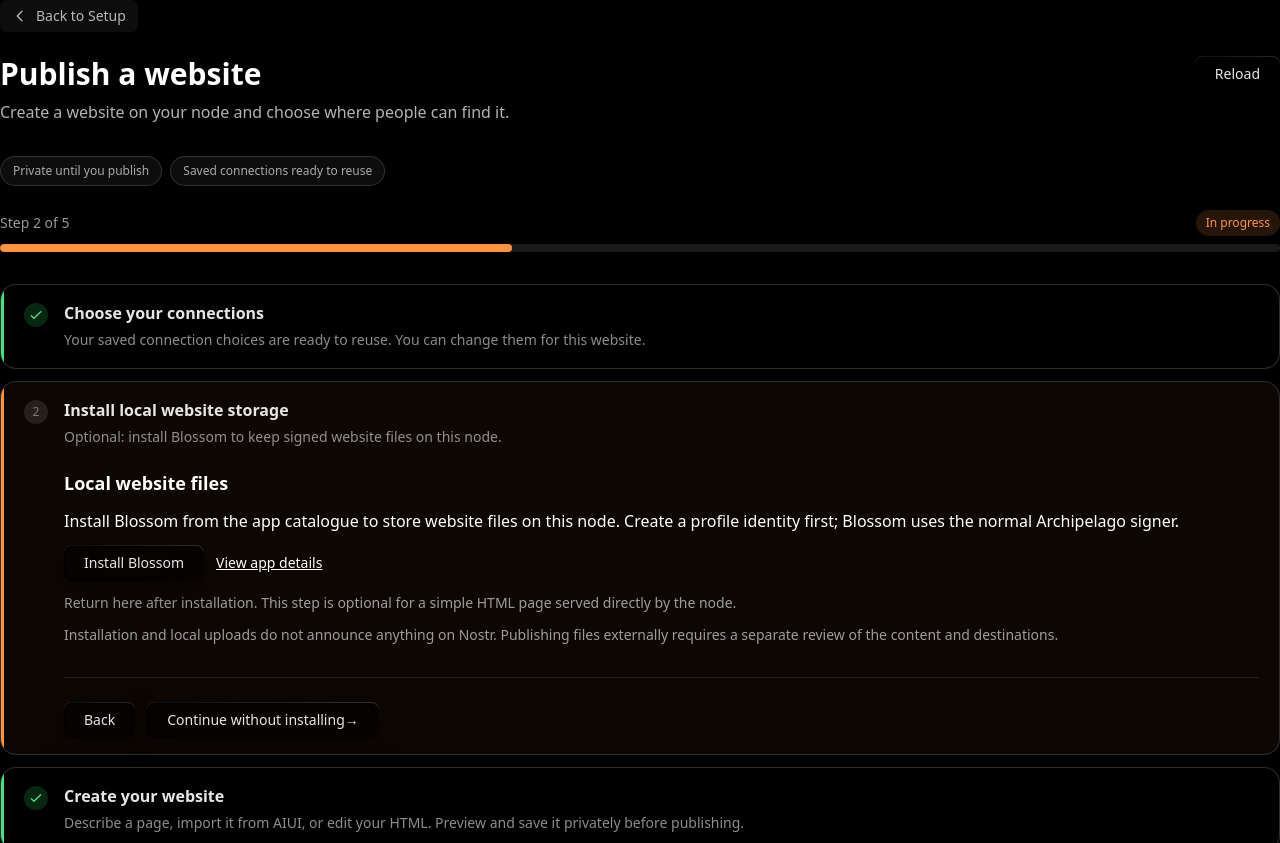
Test case: publishing setup › isolates saved HTML and presents Nostr as an independent choice
Step 1. Click the button that starts with "Create your website" → click(144, 796), box [24,784,1259,834]
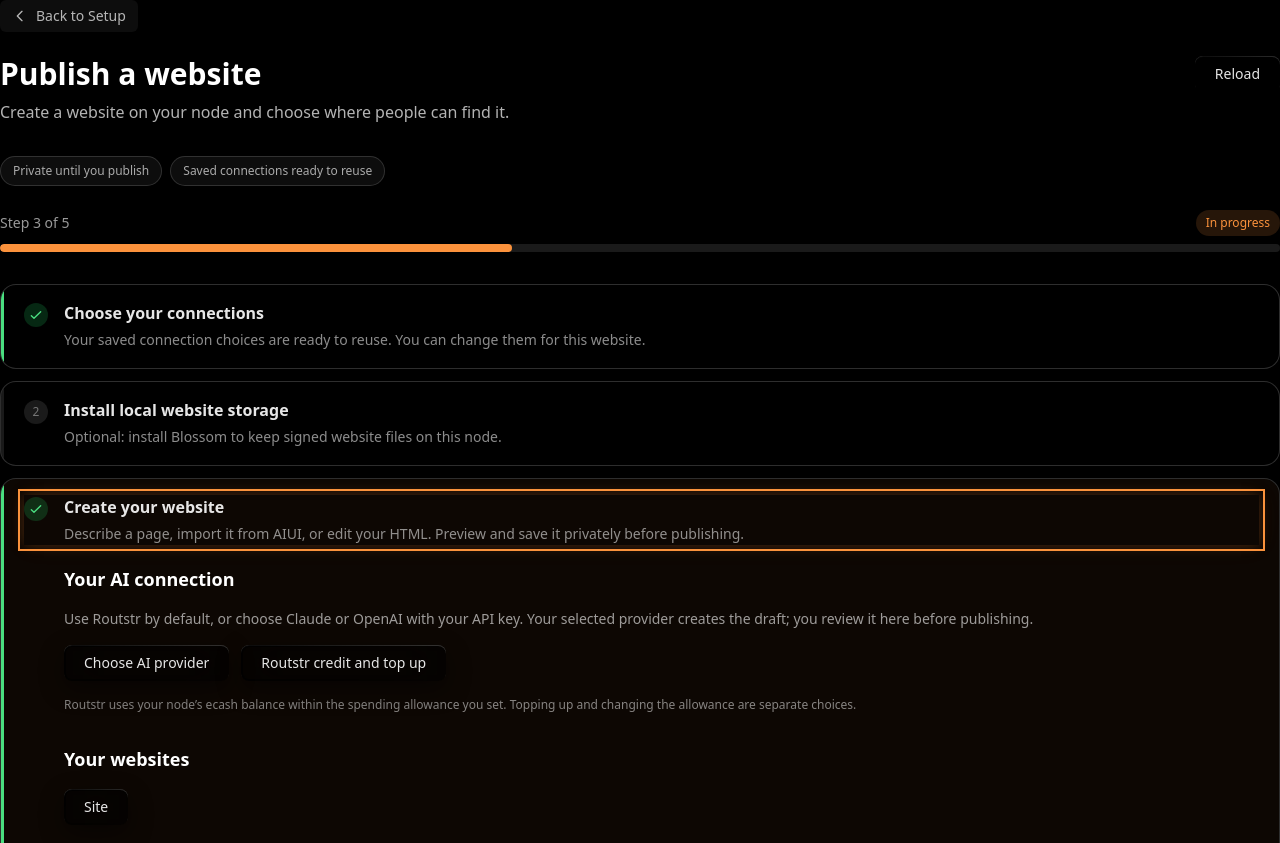
Step 2. Click the button that starts with "Choose your connections" → click(164, 313), box [24,301,1259,352]
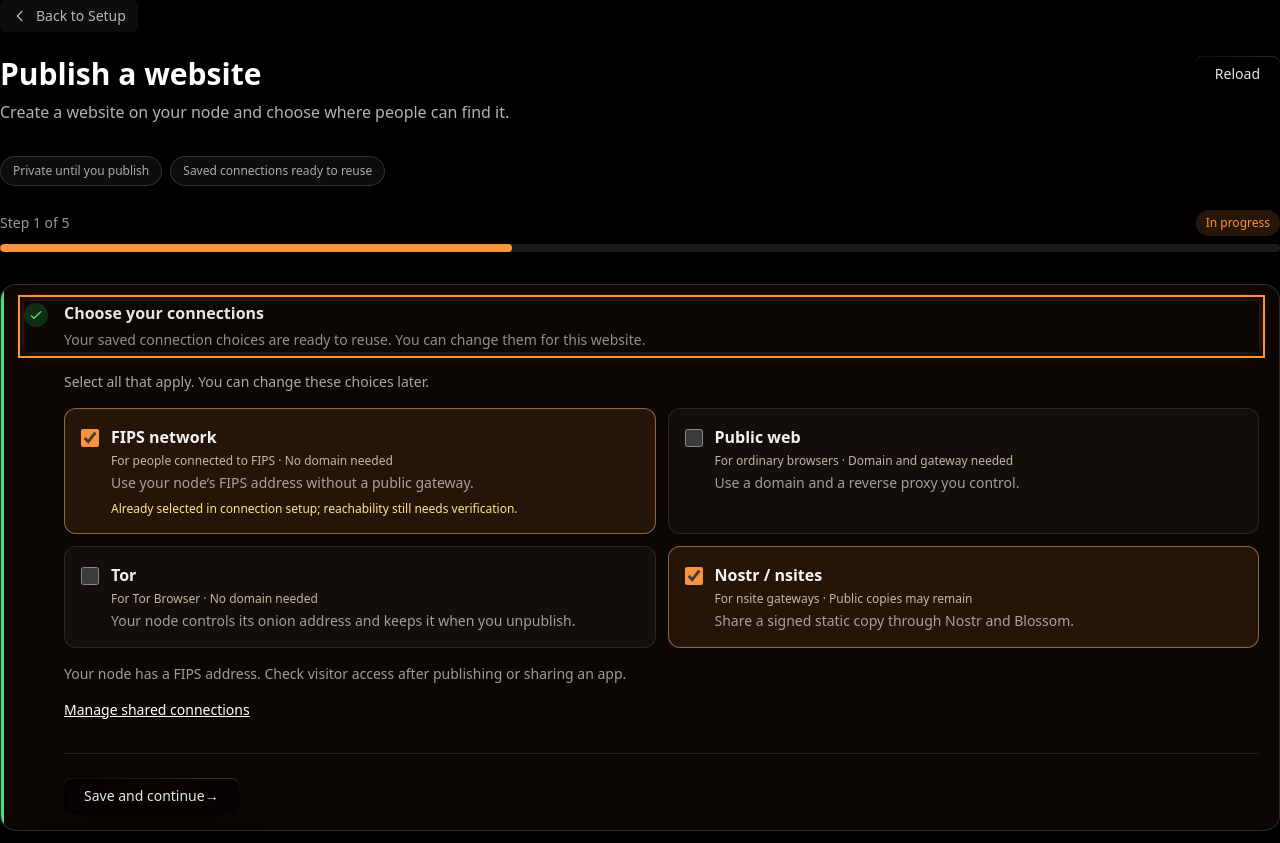
expect the number of checkboxes is 4: met, box [81,429,99,447]; [684,429,702,447]; [81,567,99,585]; [684,567,702,585]
expect the text "reachability still needs verification" is shown: met, box [111,500,518,517]
